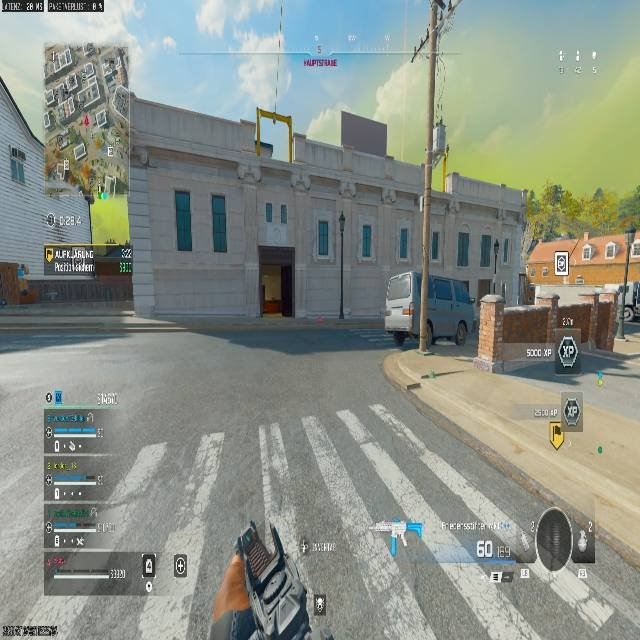player: (555, 334, 580, 373), (452, 317, 468, 347)
